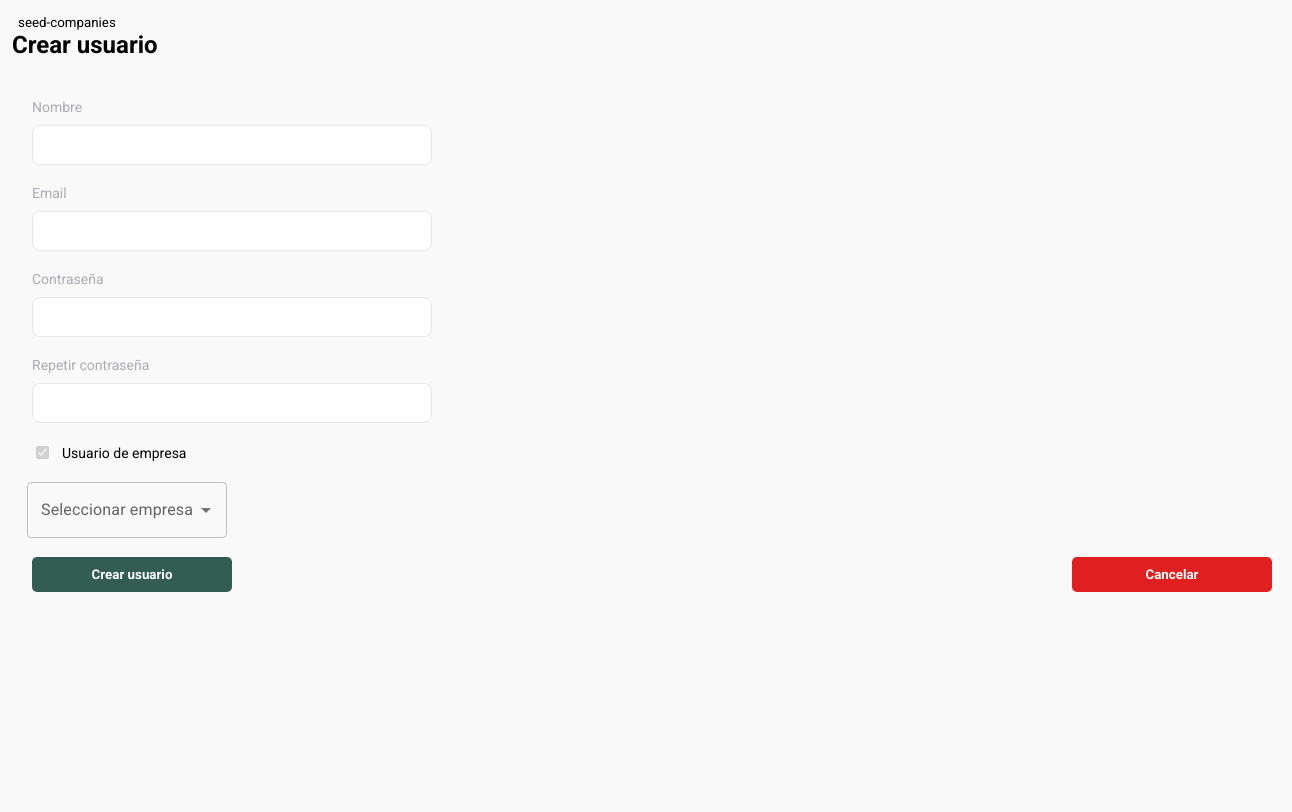
Test case: Given a CreateUserForm opened from users-app › Then it loads the initial companies even when the global list is empty
Click the dropdown labelled "Seleccionar empresa" at [112, 510], box top-left (36, 491), bottom-right (188, 529)
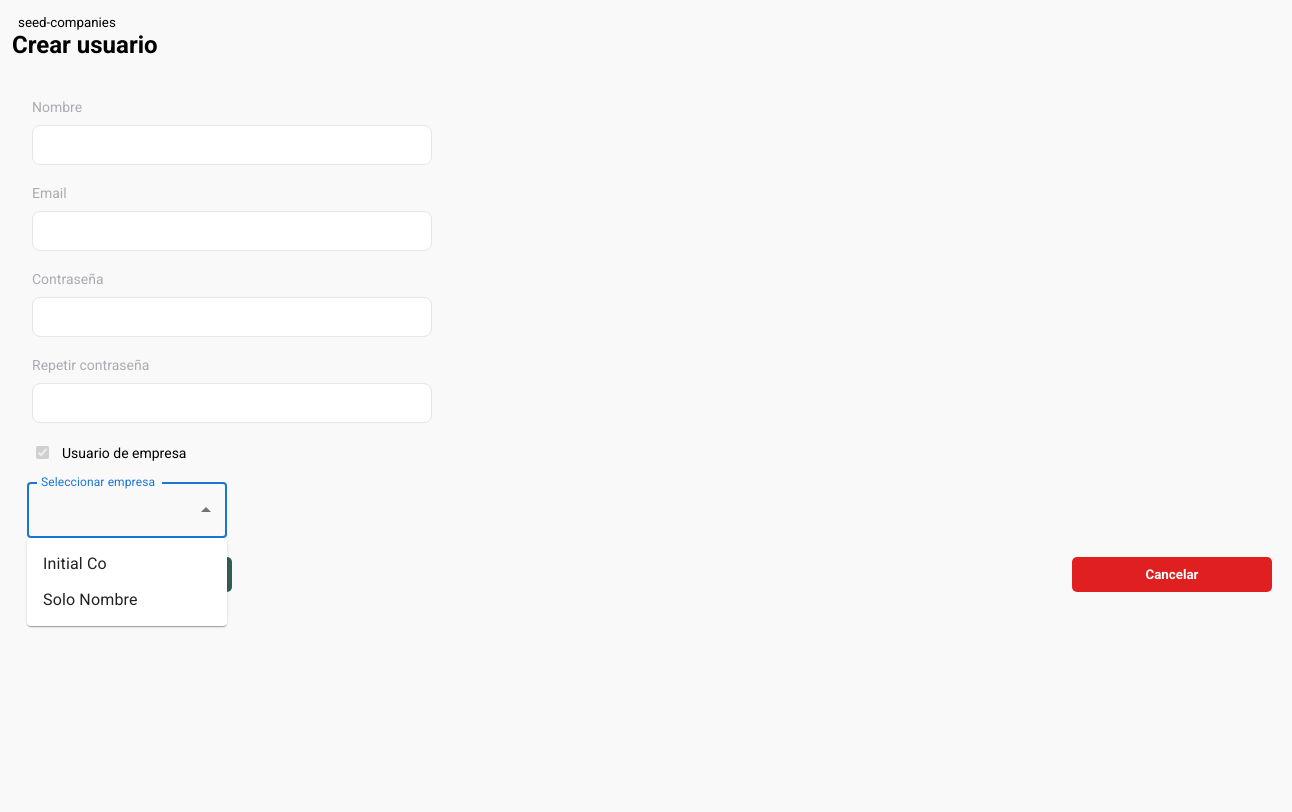
Now the option "Initial Co" is shown, box top-left (43, 554), bottom-right (107, 573)
Now the option "Solo Nombre" is shown, box top-left (43, 590), bottom-right (138, 609)
